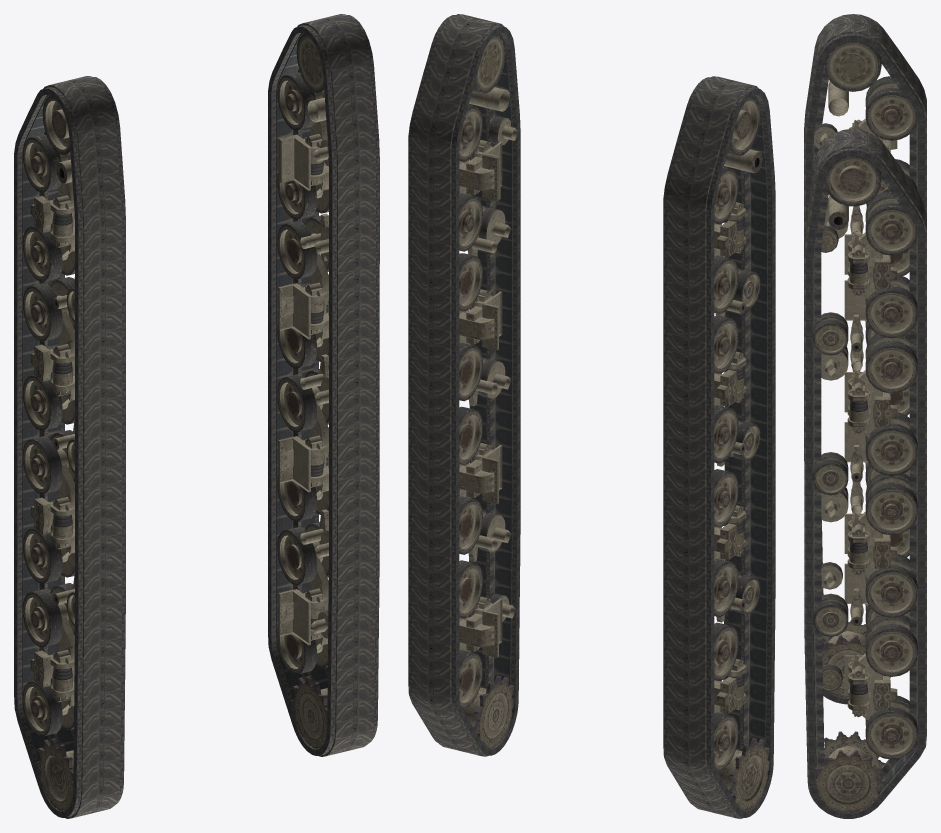
File: Chassis.glb
3 views of the same model, side by side, from view 1: azimuth 30°, elevation 25°; view 2: azimuth 150°, elevation 25°; view 3: azimuth 270°, elevation 25° (orthographic). The views are drawn at different scales.
Parts seen in each view (by area): view 1: set_0_group_0, set_1_group_0, set_3_group_0, set_2_group_0; view 2: set_0_group_0, set_1_group_0, set_3_group_0, set_2_group_0; view 3: set_3_group_0, set_1_group_0, set_2_group_0, set_0_group_0.
Boxes of the visible parts, bbox=[...] form: set_0_group_0: bbox=[14, 76, 125, 818]; set_1_group_0: bbox=[268, 14, 379, 756]; set_3_group_0: bbox=[277, 33, 328, 749]; set_2_group_0: bbox=[22, 95, 74, 811]; set_0_group_0: bbox=[663, 76, 775, 818]; set_1_group_0: bbox=[408, 14, 520, 756]; set_3_group_0: bbox=[459, 34, 518, 748]; set_2_group_0: bbox=[714, 96, 769, 811]; set_3_group_0: bbox=[813, 155, 918, 812]; set_1_group_0: bbox=[804, 128, 926, 818]; set_2_group_0: bbox=[813, 41, 917, 697]; set_0_group_0: bbox=[804, 14, 926, 704].
Size of the model in its own units: 3.15 by 7.24 by 1.2.
Materials: 4 (4 with a texture image).
